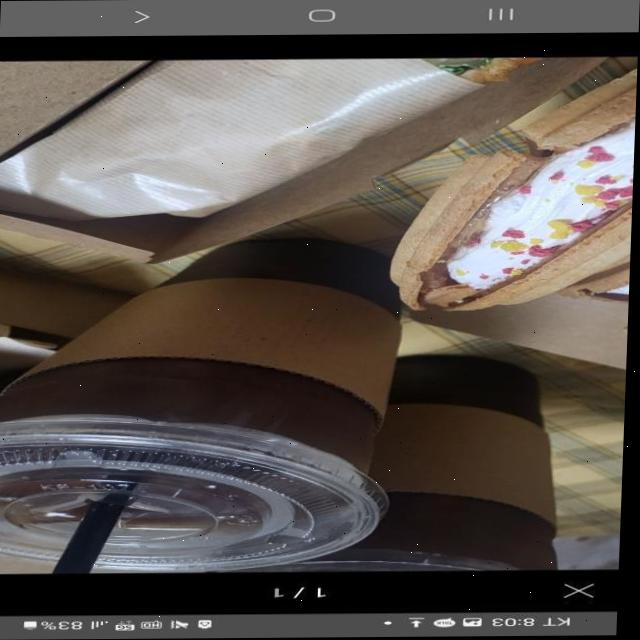cup: (0, 233, 434, 586)
